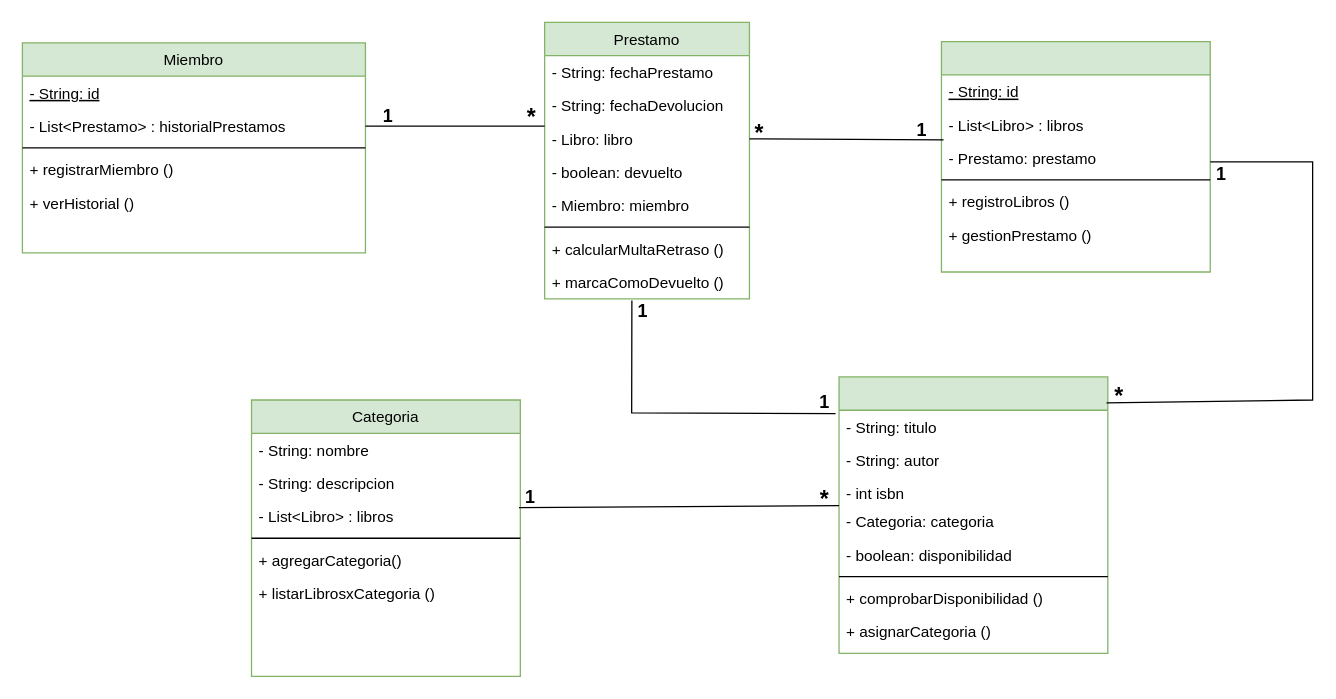
Image size: 1336x699. Some labels were removed from this diagram. The shapes that lost their labels are listed below. From the top down, each one's box as (x1, y1, x2, y2) in pixels, then its label:
(940, 40, 1210, 272): Bibliotecario
(838, 376, 1108, 653): Libro
